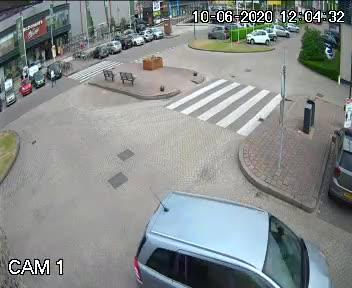car: (128, 181, 329, 288)
